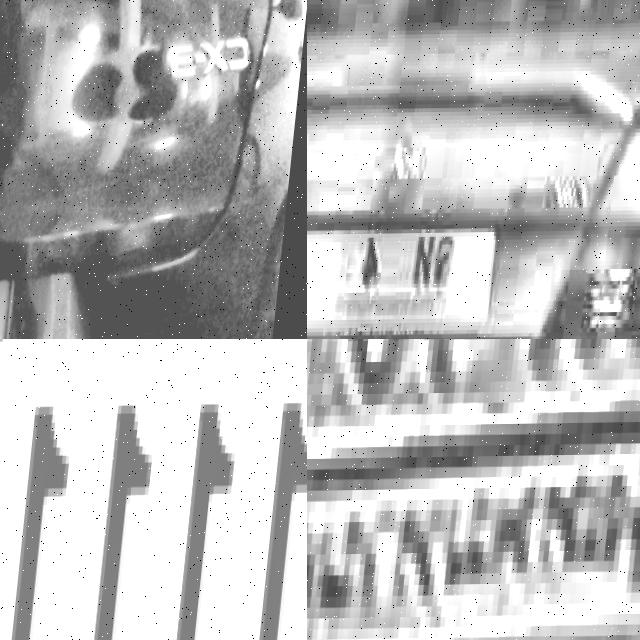license-plate: (307, 339, 640, 640), (0, 339, 307, 640), (307, 221, 502, 335)
